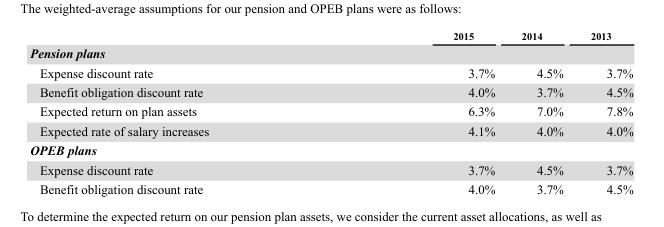table: (29, 29, 632, 195)
table column: (29, 29, 330, 195), (330, 29, 507, 195), (507, 29, 576, 195), (576, 29, 632, 195)
table column header: (29, 29, 632, 43)
table projected row header: (29, 43, 632, 62), (29, 140, 632, 159)
table row: (29, 62, 632, 82), (29, 120, 632, 140), (29, 43, 632, 62), (29, 82, 632, 101), (29, 101, 632, 120), (29, 140, 632, 159), (29, 159, 632, 178), (29, 178, 632, 195), (29, 29, 632, 43)
